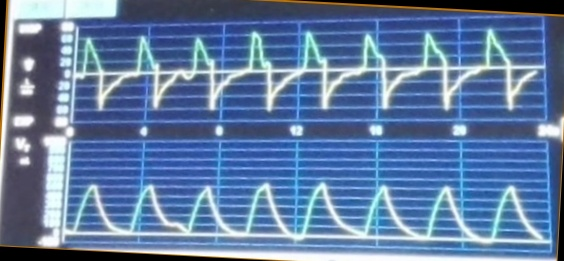Ineffective_effort Flow: (80, 26, 539, 113)
Ineffective_effort Volume: (71, 168, 543, 247)
